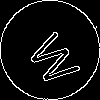W: (25, 25, 89, 90)
